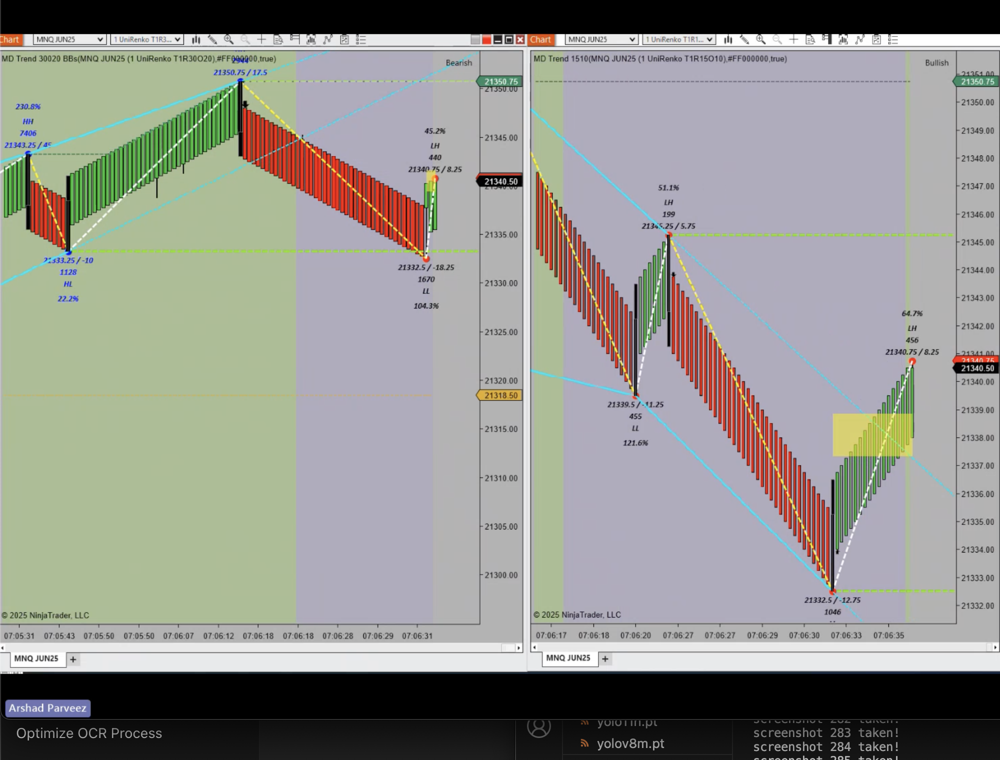HH: (14, 111, 43, 129)
HL: (56, 273, 83, 293)
LH: (902, 316, 928, 337), (423, 135, 448, 153), (659, 194, 681, 207)
LL: (626, 419, 647, 439), (417, 283, 439, 299)
